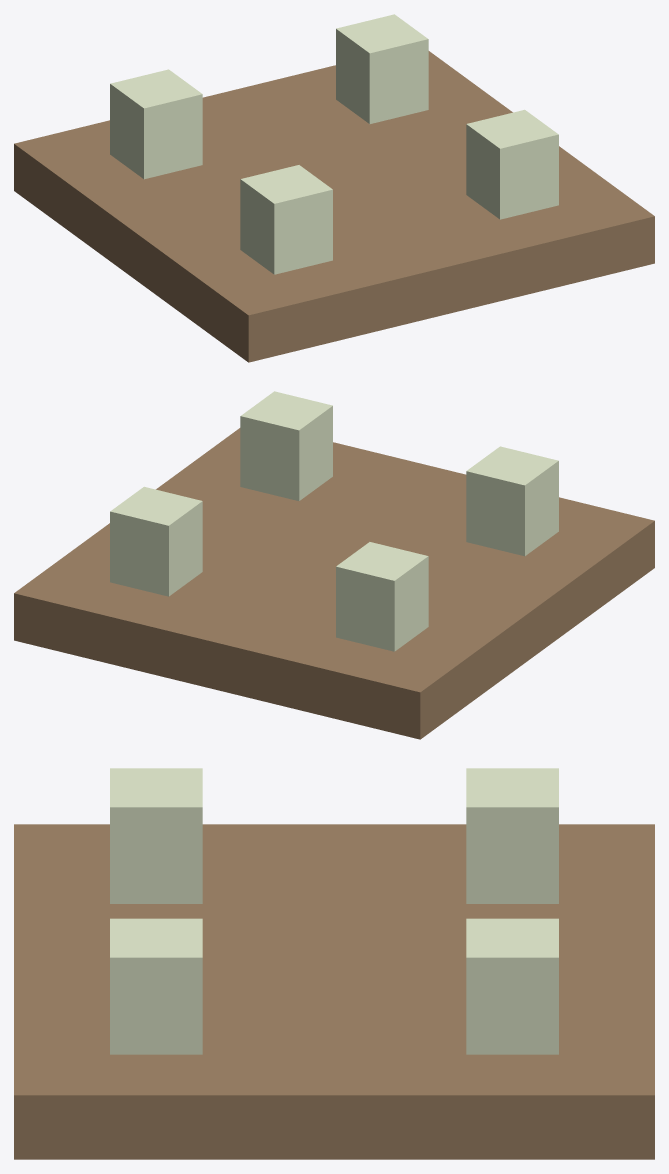
File: Prop_DS_Crop_Spudlet_S1_V3.glb
The picture shows the model from 3 angles, top to bottom: view 1: azimuth 30°, elevation 25°; view 2: azimuth 150°, elevation 25°; view 3: azimuth 270°, elevation 25°; orthographic projection. The views are drawn at different scales.
Visible parts, largest first — view 1: Prop_DS_Crop_Spudlet_S1_V3; view 2: Prop_DS_Crop_Spudlet_S1_V3; view 3: Prop_DS_Crop_Spudlet_S1_V3.
Part boxes in pixels (left/top/right/bottom): Prop_DS_Crop_Spudlet_S1_V3: left=14, top=14, right=654, bottom=362; Prop_DS_Crop_Spudlet_S1_V3: left=14, top=391, right=654, bottom=739; Prop_DS_Crop_Spudlet_S1_V3: left=14, top=768, right=654, bottom=1159.
Size of the model in its own units: 0.9 by 0.25 by 0.9.
